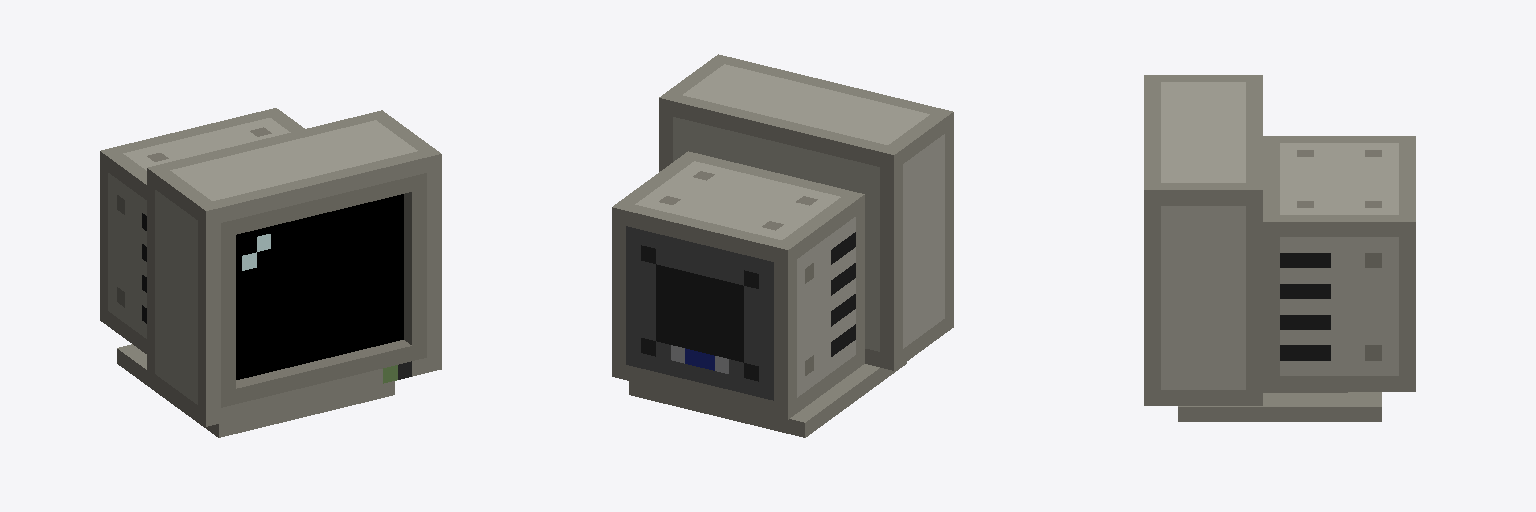
3 views of the same model, side by side, from view 1: azimuth 30°, elevation 25°; view 2: azimuth 150°, elevation 25°; view 3: azimuth 270°, elevation 25° (orthographic).
Visible parts, largest first — view 1: cube; view 2: cube; view 3: cube.
Part boxes in pixels (bbox=[...]): cube: bbox=[100, 108, 441, 437]; cube: bbox=[612, 54, 953, 437]; cube: bbox=[1144, 75, 1415, 421].
Size of the model in its own units: 1 by 1 by 1.
1 materials, 1 textured.